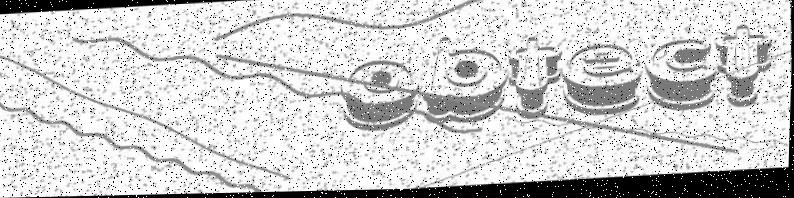b: (421, 34, 512, 129)
c: (644, 40, 720, 117)
e: (560, 44, 647, 122)
o: (341, 59, 424, 136)
t: (505, 35, 565, 125), (714, 25, 776, 112)
